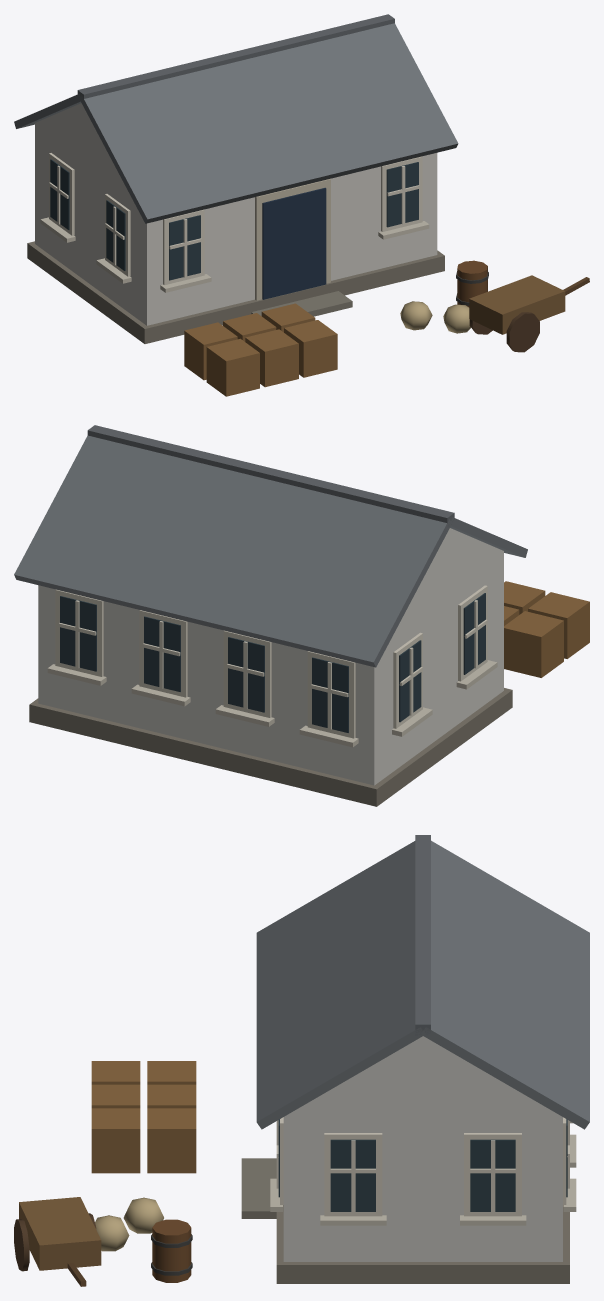
The model's file is procedural_trade_yard@6.glb.
The picture shows the model from 3 angles, top to bottom: view 1: azimuth 30°, elevation 25°; view 2: azimuth 150°, elevation 25°; view 3: azimuth 270°, elevation 25°; orthographic projection. The views are drawn at different scales.
Visible parts, largest first — view 1: part_0; view 2: part_0; view 3: part_0.
Part boxes in pixels (left/top/right/bottom): part_0: left=14, top=14, right=589, bottom=396; part_0: left=14, top=425, right=589, bottom=806; part_0: left=14, top=835, right=589, bottom=1286.
Size of the model in its own units: 7.68 by 4.15 by 8.25.
